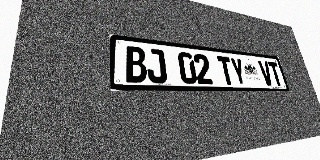0: (177, 51, 198, 84)
2: (193, 53, 213, 84)
B: (125, 46, 148, 83)
J: (145, 48, 167, 83)
T: (217, 56, 235, 85), (267, 61, 284, 86)
V: (258, 60, 274, 86)
Y: (229, 57, 247, 85)
